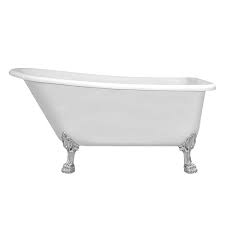bathub: (5, 60, 216, 183)
